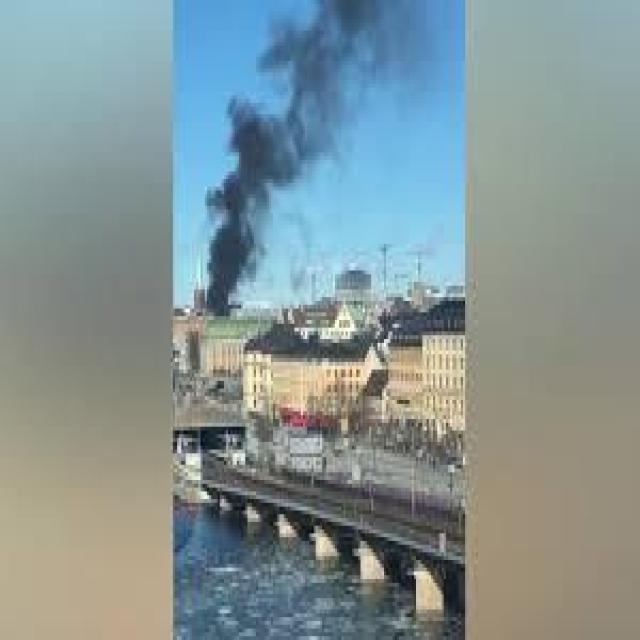Smoke: (272, 8, 417, 160), (198, 95, 268, 331)
